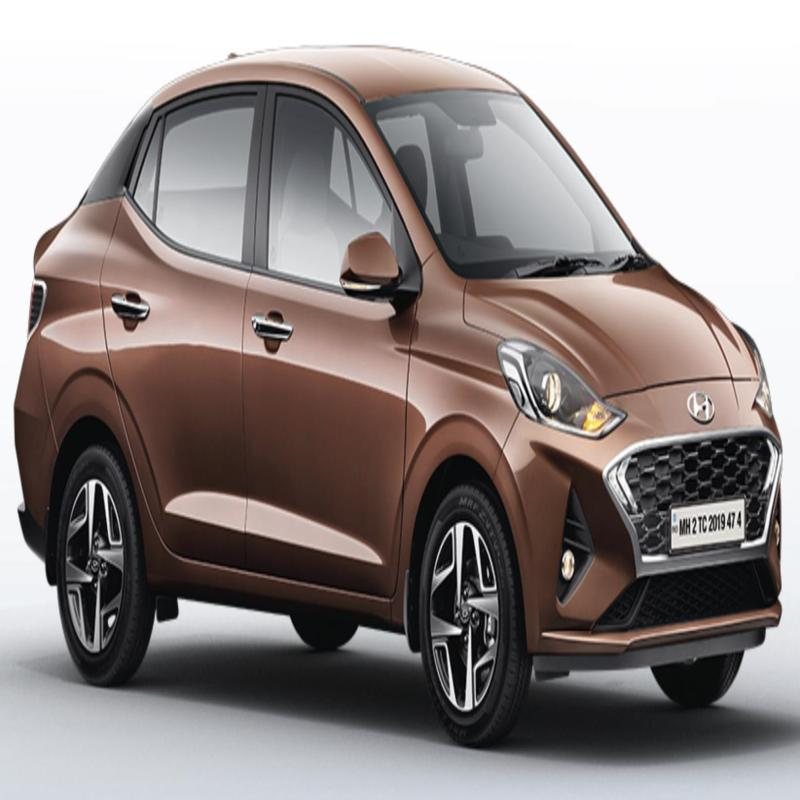car: (39, 22, 772, 747)
